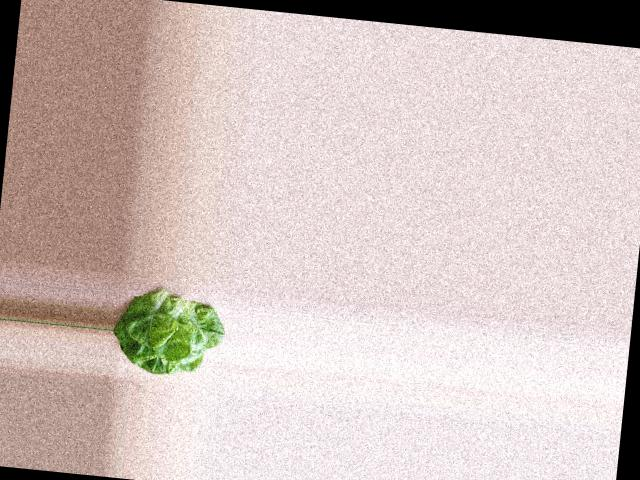lettuce: (111, 288, 224, 380)
